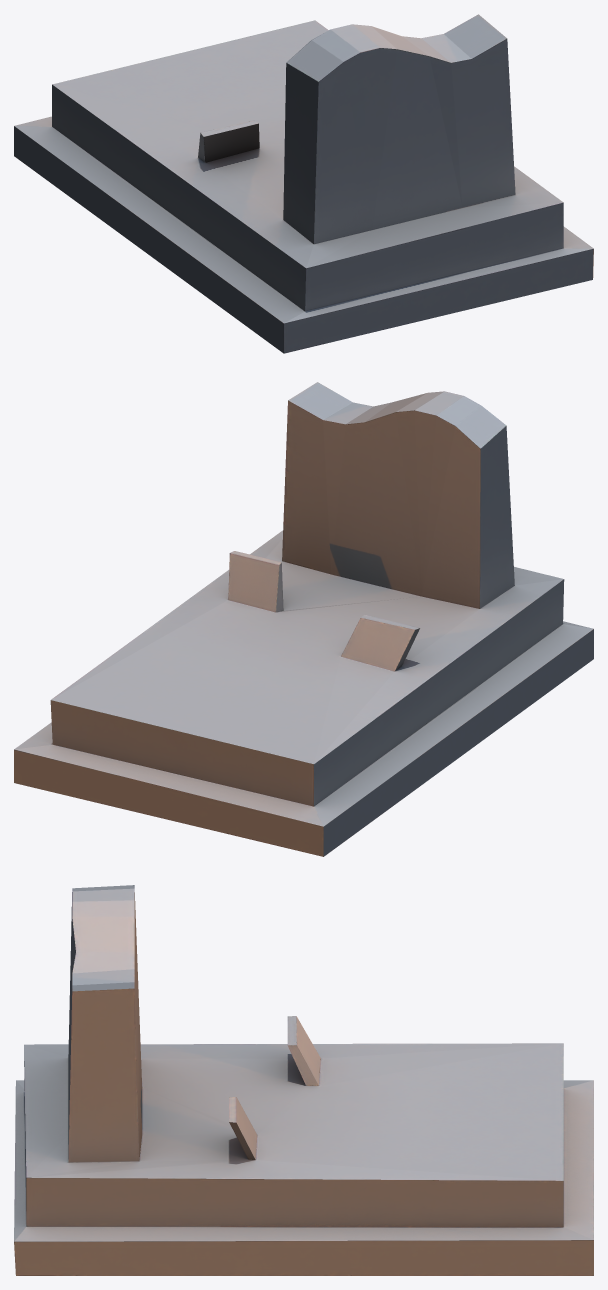
The picture shows the model from 3 angles, top to bottom: view 1: azimuth 30°, elevation 25°; view 2: azimuth 150°, elevation 25°; view 3: azimuth 270°, elevation 25°; orthographic projection. The views are drawn at different scales.
Visible parts, largest first — view 1: Tombe1 high; view 2: Tombe1 high; view 3: Tombe1 high.
Boxes of the visible parts, <box> form: Tombe1 high: <box>14,14,593,353</box>; Tombe1 high: <box>14,382,593,856</box>; Tombe1 high: <box>14,885,593,1275</box>.
Bounding box in the file's own units: 1.41 × 1.14 × 2.14.
Materials: 1 (1 with a texture image).
